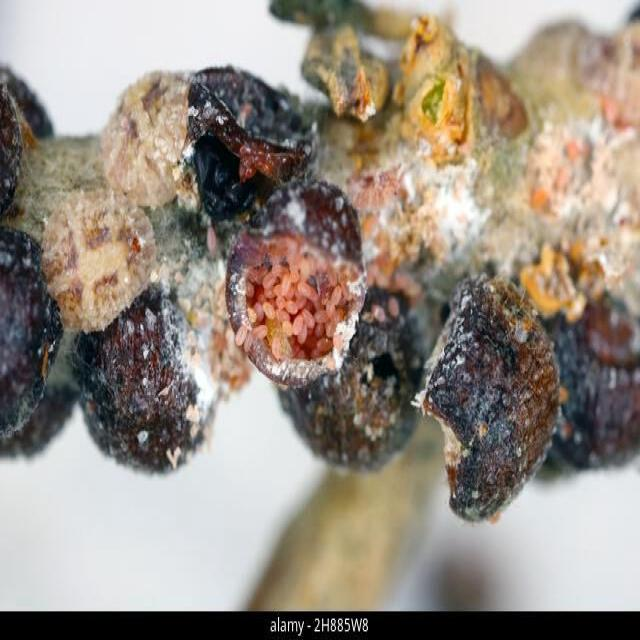Black Scale: (422, 273, 558, 520), (226, 180, 366, 387), (278, 288, 432, 470), (73, 289, 216, 471), (183, 67, 312, 218), (0, 225, 73, 455), (546, 298, 639, 471), (42, 189, 155, 329), (101, 72, 195, 206)
